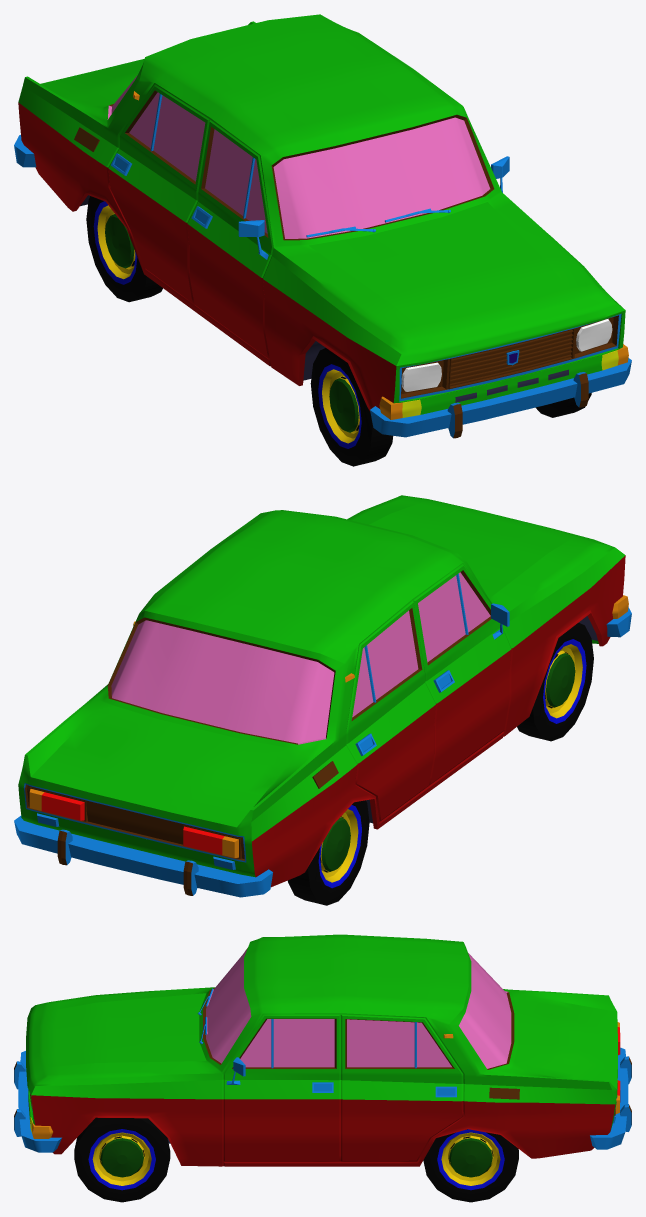
File: Zil_HighPoly.fbx
3 renders of one model, top to bottom at view 1: azimuth 30°, elevation 25°; view 2: azimuth 150°, elevation 25°; view 3: azimuth 270°, elevation 25°, orthographic. The views are drawn at different scales.
Parts seen in each view (by area): view 1: Body, Wheel_FR, Wheel_RR; view 2: Body, Wheel_FR, Wheel_RR; view 3: Body, Wheel_FL, Wheel_RL.
Part boxes in pixels (x1,y1,x2,y2): Body: (14, 14, 631, 438); Wheel_FR: (310, 348, 393, 466); Wheel_RR: (86, 196, 162, 302); Body: (14, 495, 631, 897); Wheel_FR: (517, 622, 593, 741); Wheel_RR: (287, 800, 369, 905); Body: (14, 934, 631, 1166); Wheel_FL: (74, 1117, 170, 1202); Wheel_RL: (423, 1129, 518, 1202).
Size of the model in its own units: 1.65 by 1.47 by 4.22.
